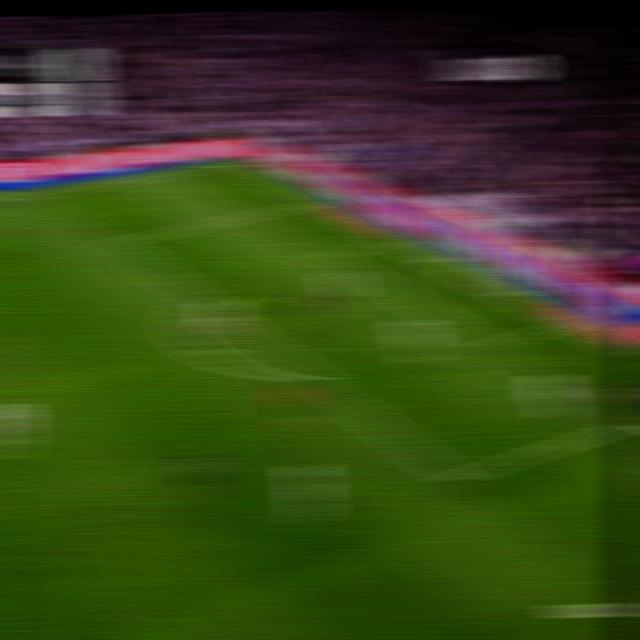bigarea_bottom_inner: (439, 462, 475, 494)
bigarea_top_inner: (104, 232, 134, 251)
bottom_arc_area_intersection: (296, 366, 329, 387)
corner: (217, 157, 248, 169)
smallarea_bottom_inner: (479, 333, 510, 356)
smallarea_top_inner: (316, 250, 343, 262)
top_arc_area_intersection: (184, 289, 211, 303)
